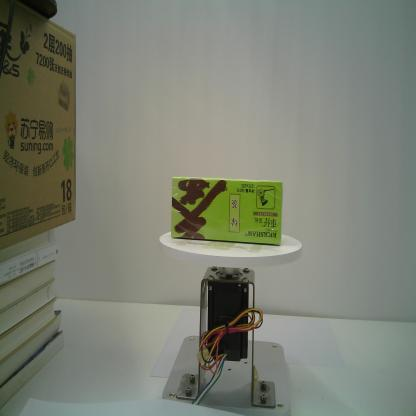Instant Drink: (171, 178, 283, 245)
